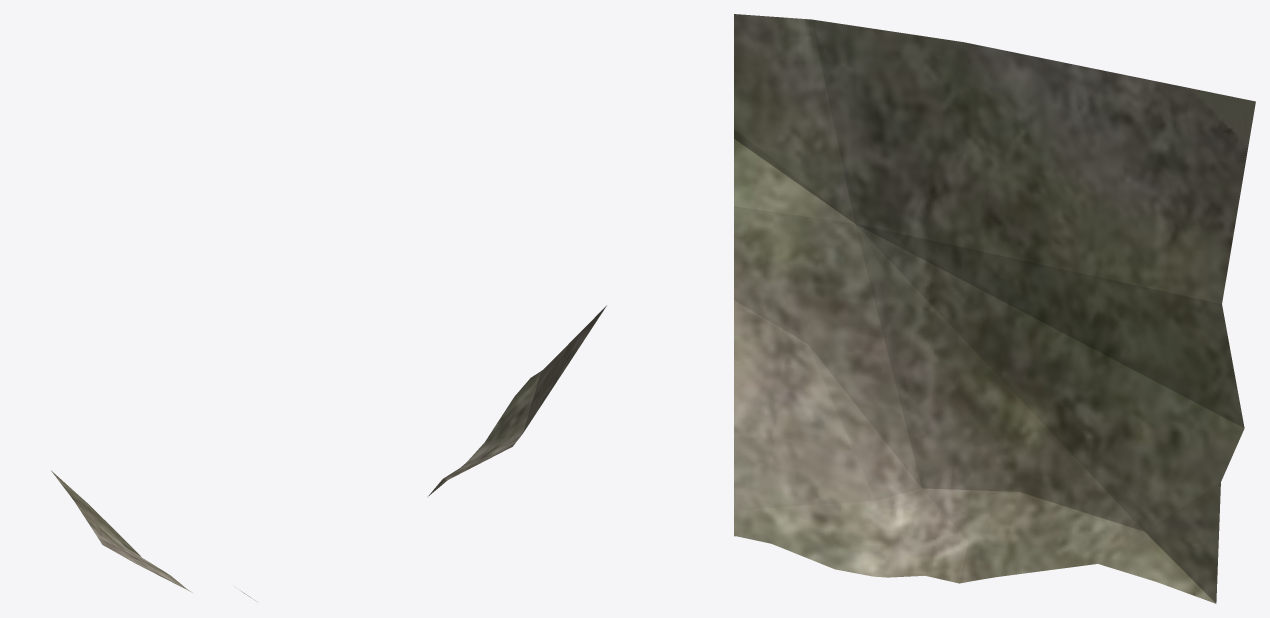
3 views of the same model, side by side, from view 1: azimuth 30°, elevation 25°; view 2: azimuth 150°, elevation 25°; view 3: azimuth 270°, elevation 25° (orthographic). The views are drawn at different scales.
Size of the model in its own units: 0.784 by 2.01 by 1.89.
1 material, 1 textured.
